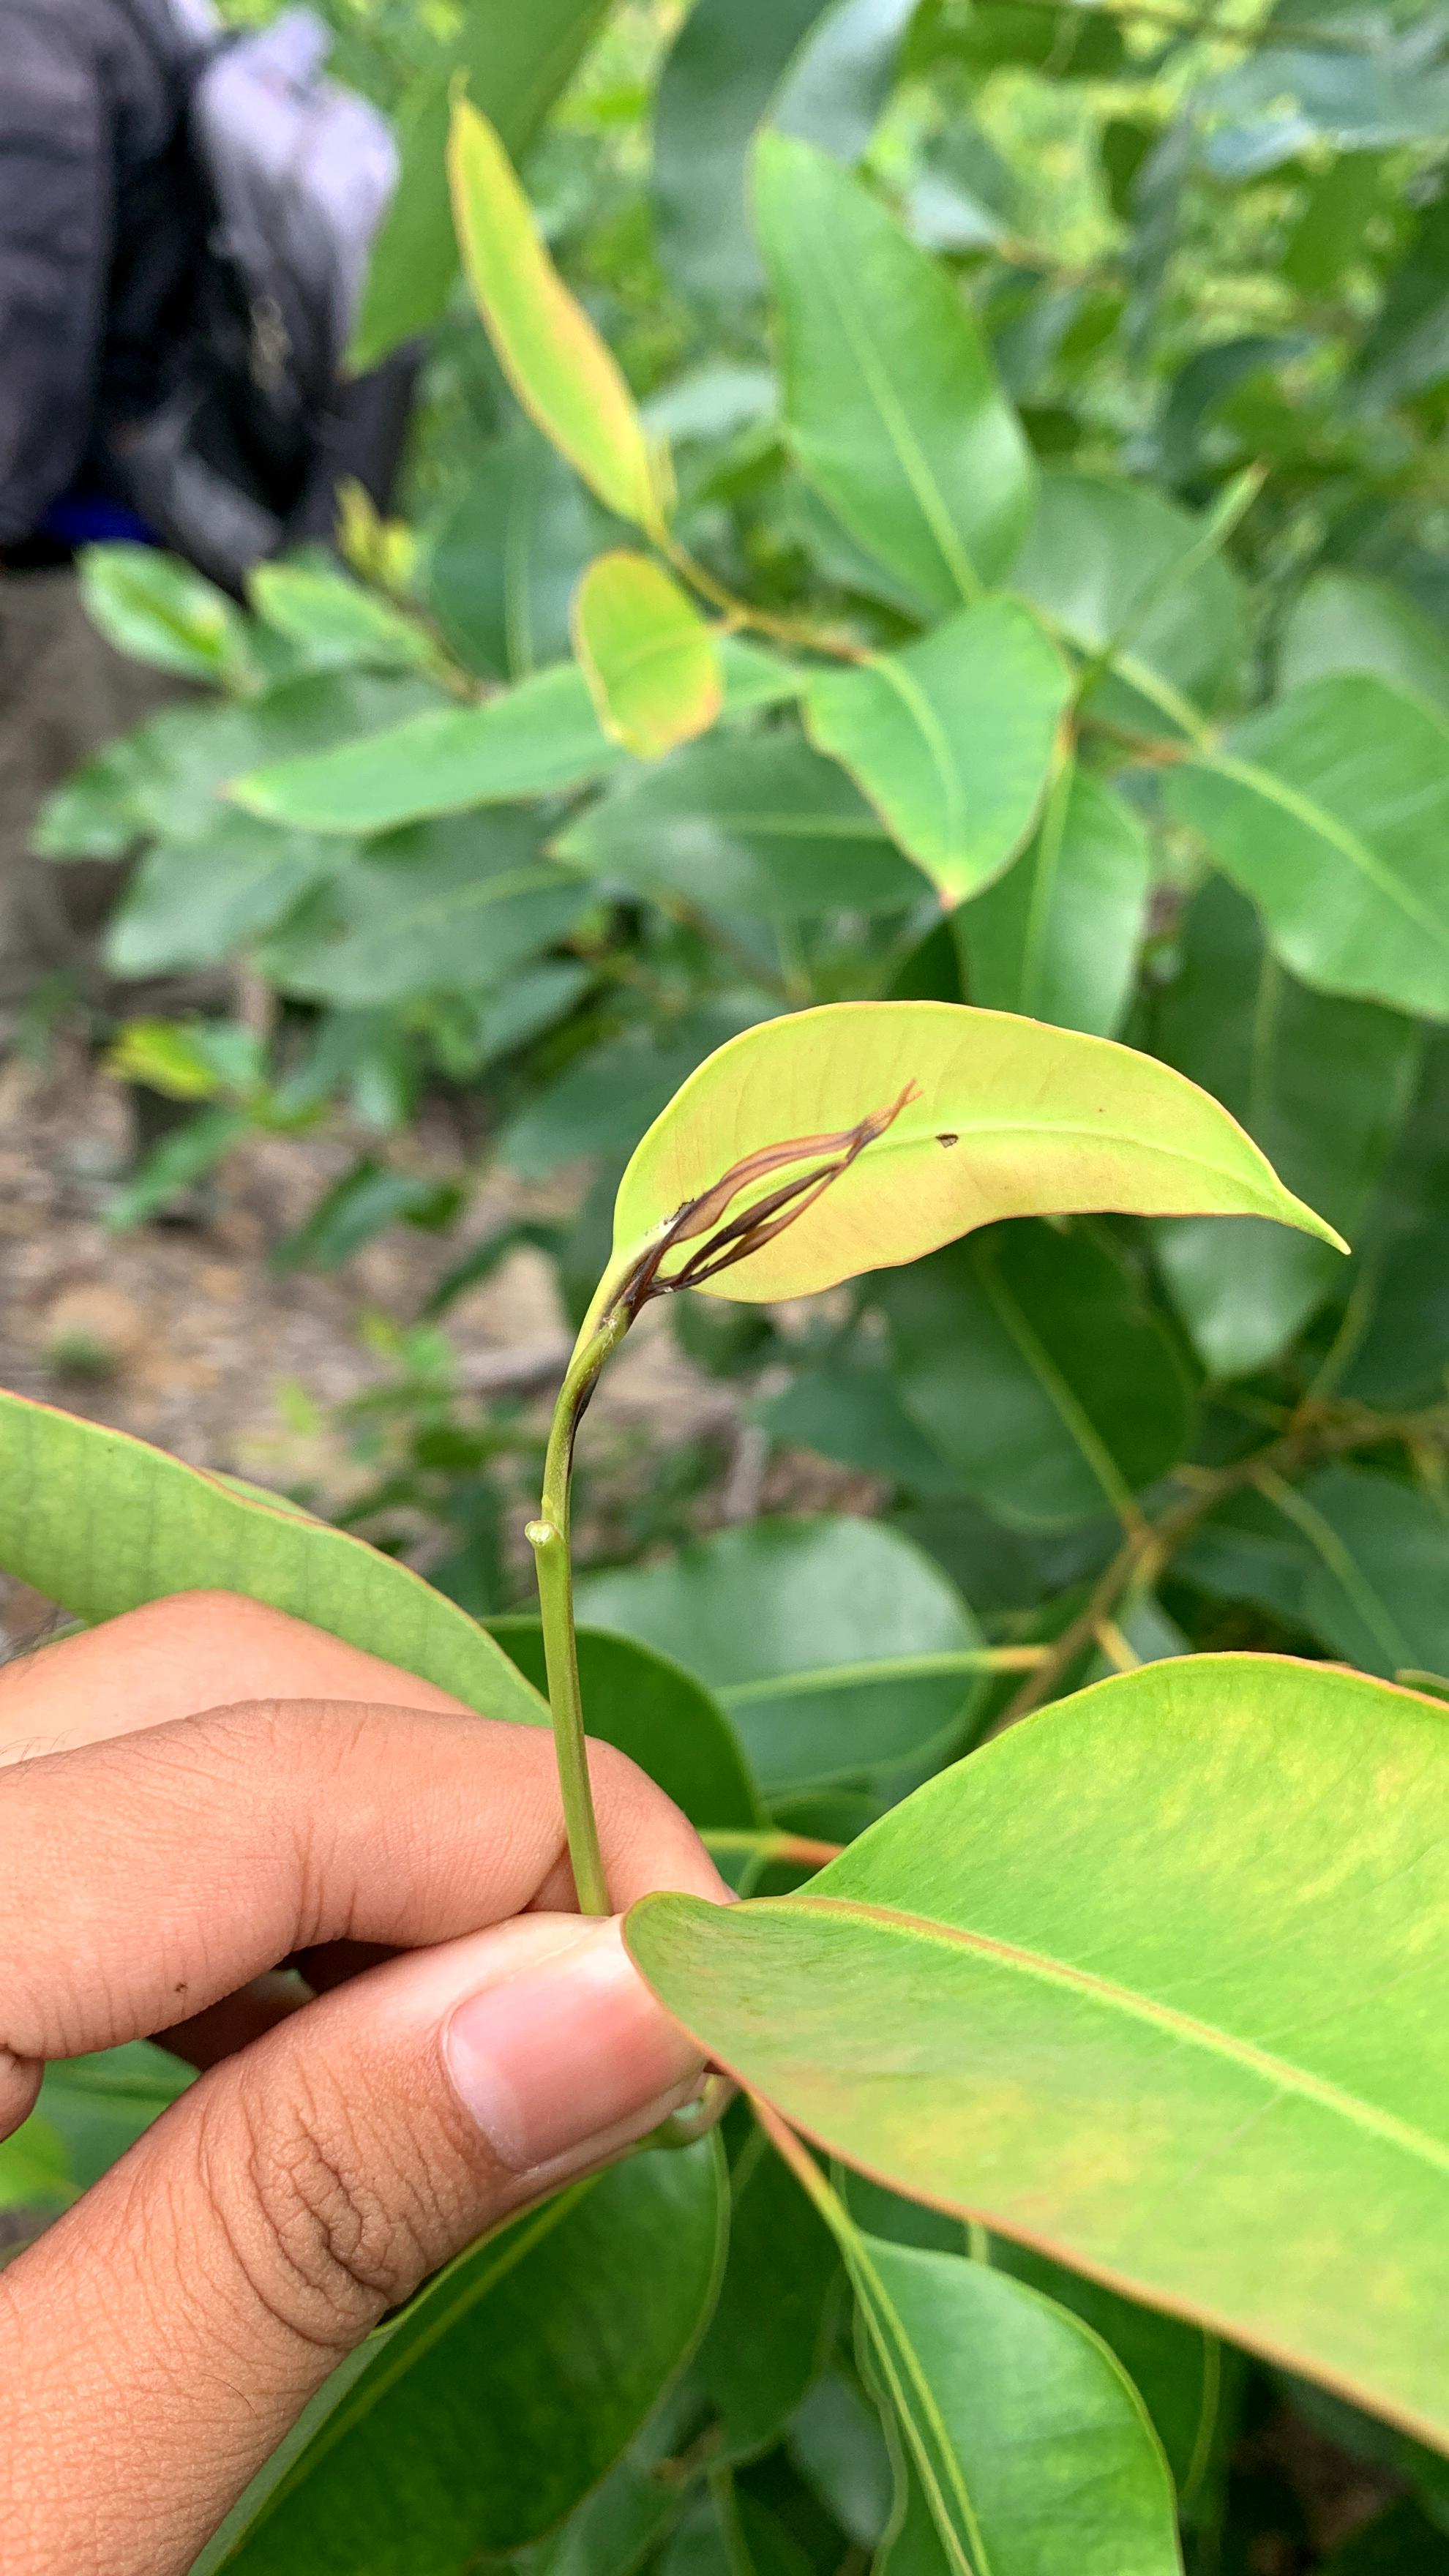Helopeltis-Withered Sprout: (558, 1026, 967, 1377)
